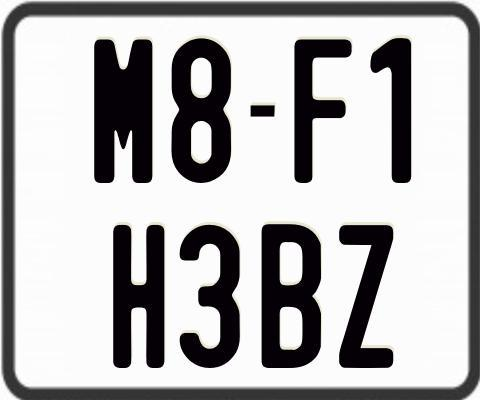1: (367, 37, 410, 182)
3: (180, 224, 240, 369)
8: (168, 36, 233, 183)
B: (261, 223, 324, 369)
F: (291, 39, 349, 187)
H: (113, 225, 164, 372)
M: (92, 38, 152, 188)
Z: (338, 224, 392, 369)
